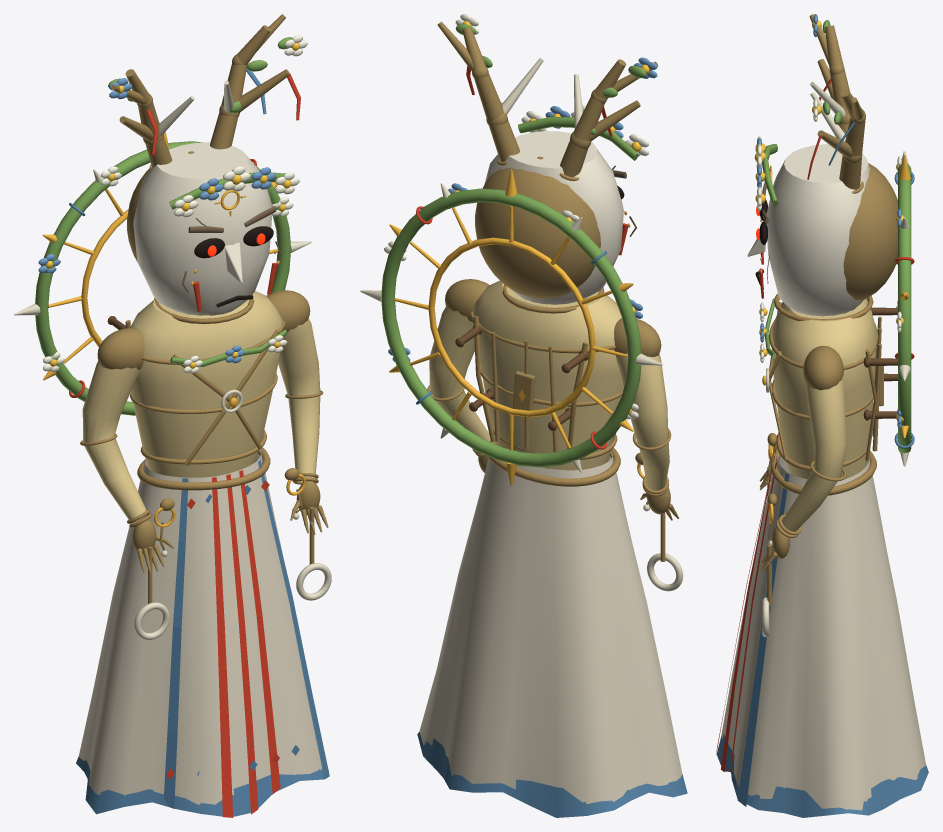
File: guardian.glb
3 renders of one model, left to right at view 1: azimuth 30°, elevation 25°; view 2: azimuth 150°, elevation 25°; view 3: azimuth 270°, elevation 25°, orthographic. The views are drawn at different scales.
Visible parts, largest first — view 1: guardian; view 2: guardian; view 3: guardian.
Part boxes in pixels (x1,y1,x2,y2): guardian: (14, 14, 331, 817); guardian: (360, 14, 687, 817); guardian: (716, 14, 928, 817).
Bounding box in the file's own units: 1.76 × 4.17 × 1.1.
